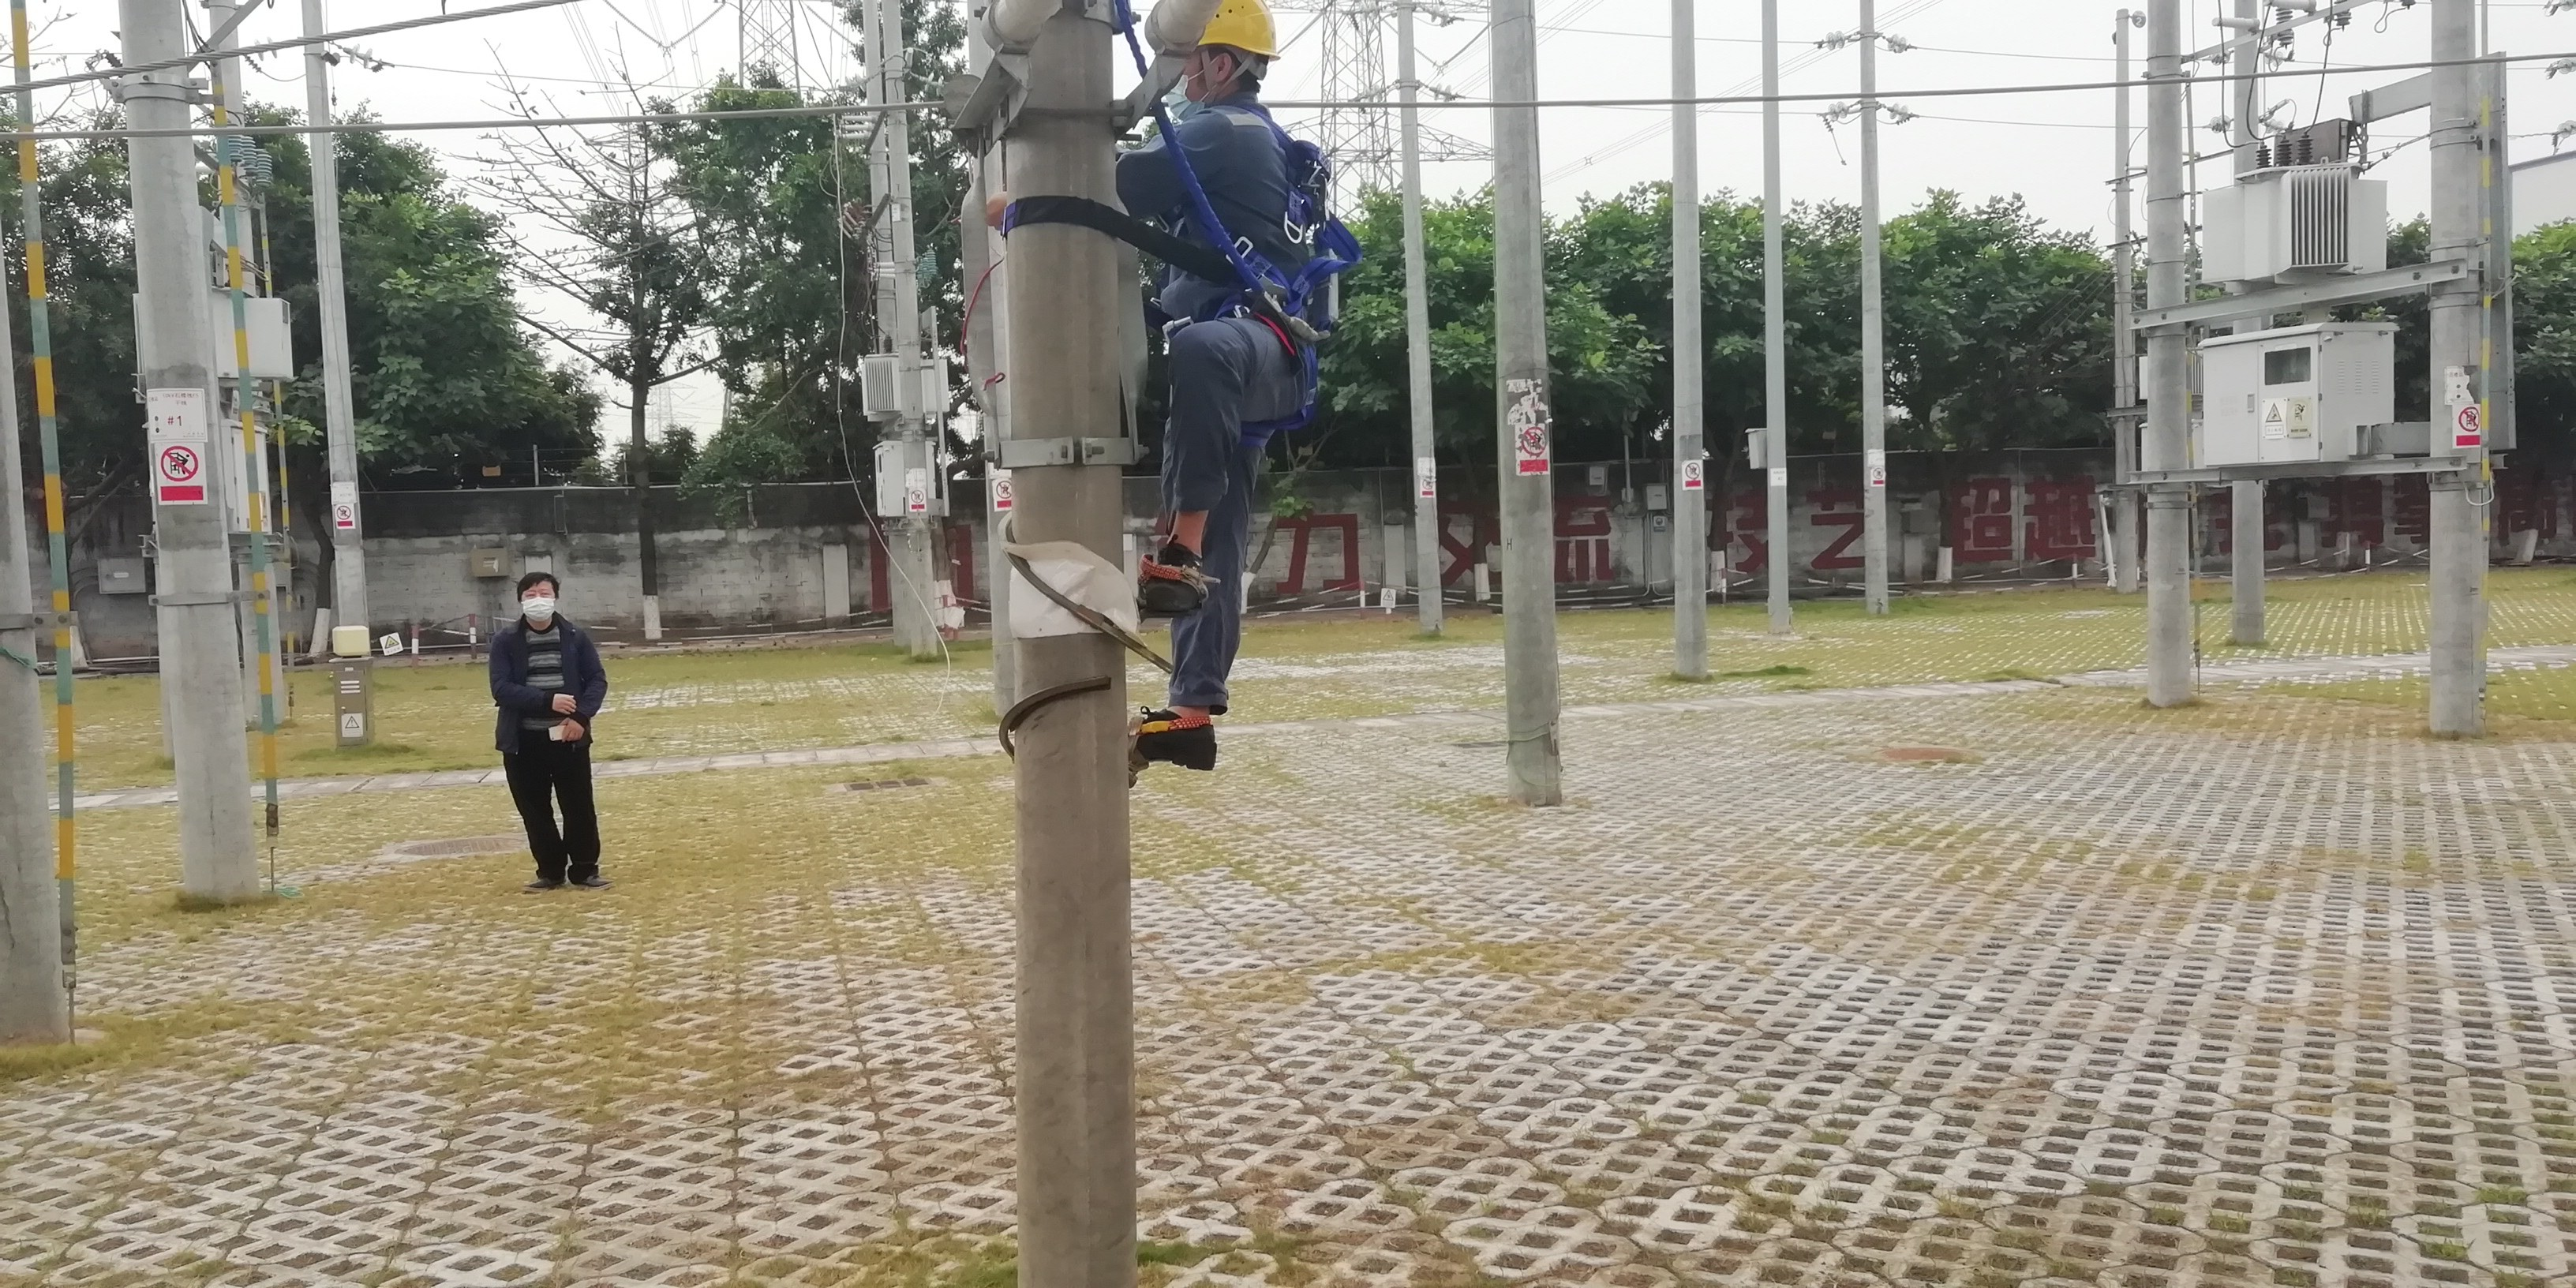downcloth: (504, 746, 606, 877)
downsuit: (1163, 330, 1309, 708)
upcloth: (488, 616, 611, 744)
upsuit: (1129, 100, 1319, 317)
wrongbottom: (1170, 480, 1224, 552)
